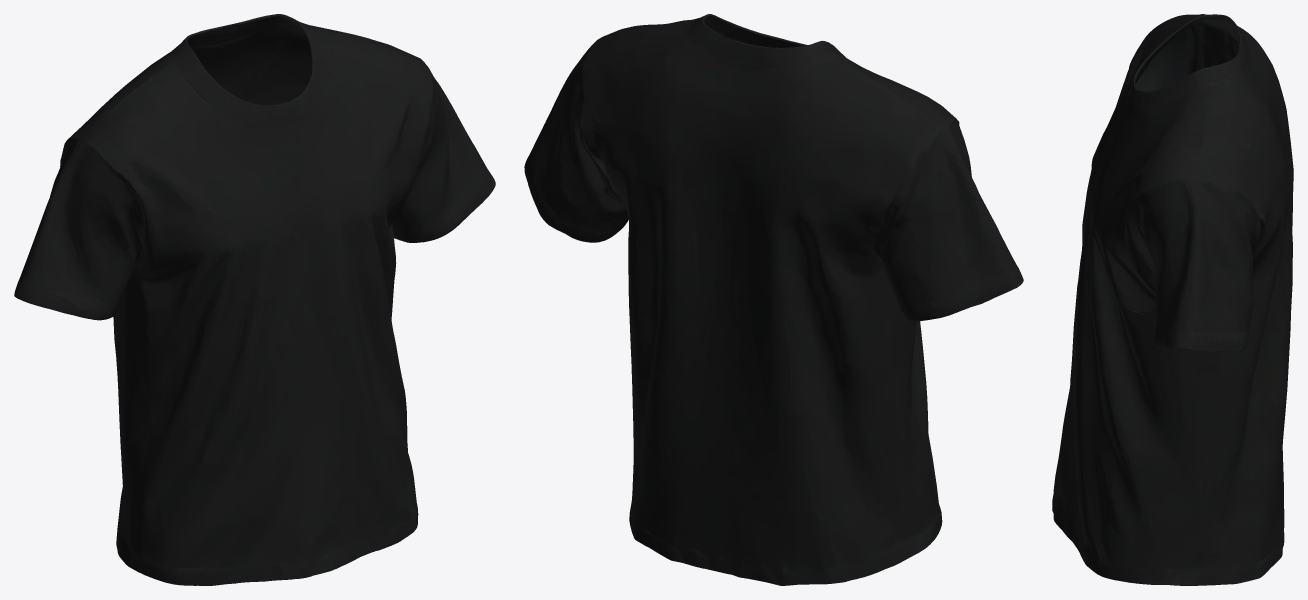
Rendered from DEMO-P002.glb.
The picture shows the model from 3 angles, left to right: view 1: azimuth 30°, elevation 25°; view 2: azimuth 150°, elevation 25°; view 3: azimuth 270°, elevation 25°; orthographic projection. The views are drawn at different scales.
Size of the model in its own units: 1.89 by 1.89 by 0.8391.
Materials: 1 (1 with a texture image).
